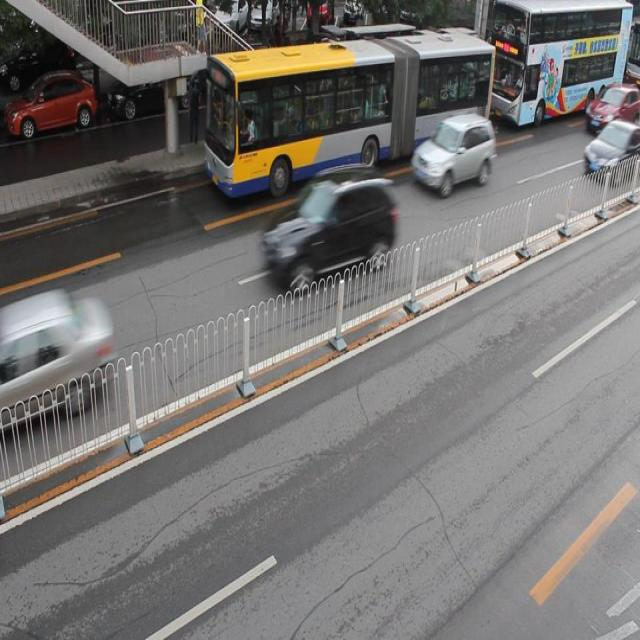car: (264, 165, 396, 296), (1, 290, 110, 438), (410, 112, 494, 194), (1, 68, 97, 137), (105, 58, 192, 121), (206, 37, 276, 104), (581, 118, 640, 184), (298, 40, 363, 95), (584, 82, 640, 134)
van: (206, 29, 493, 202), (488, 1, 630, 126)
